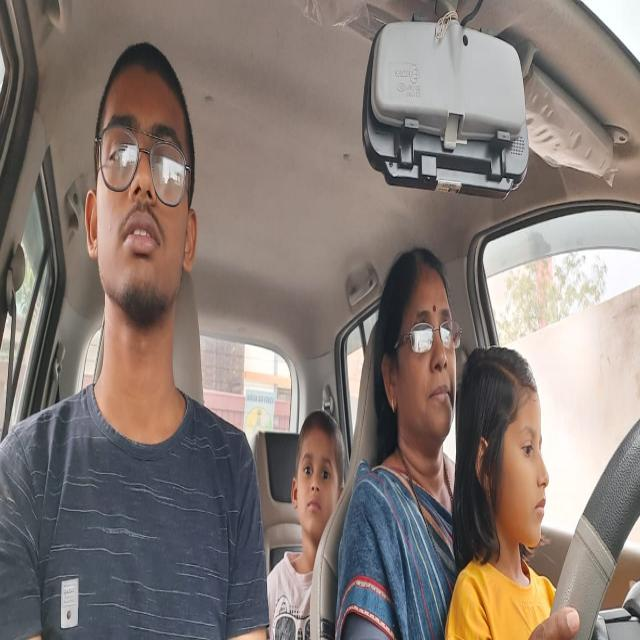child: (454, 342, 552, 574)
person: (83, 40, 204, 345), (372, 248, 460, 457), (290, 406, 342, 537)
